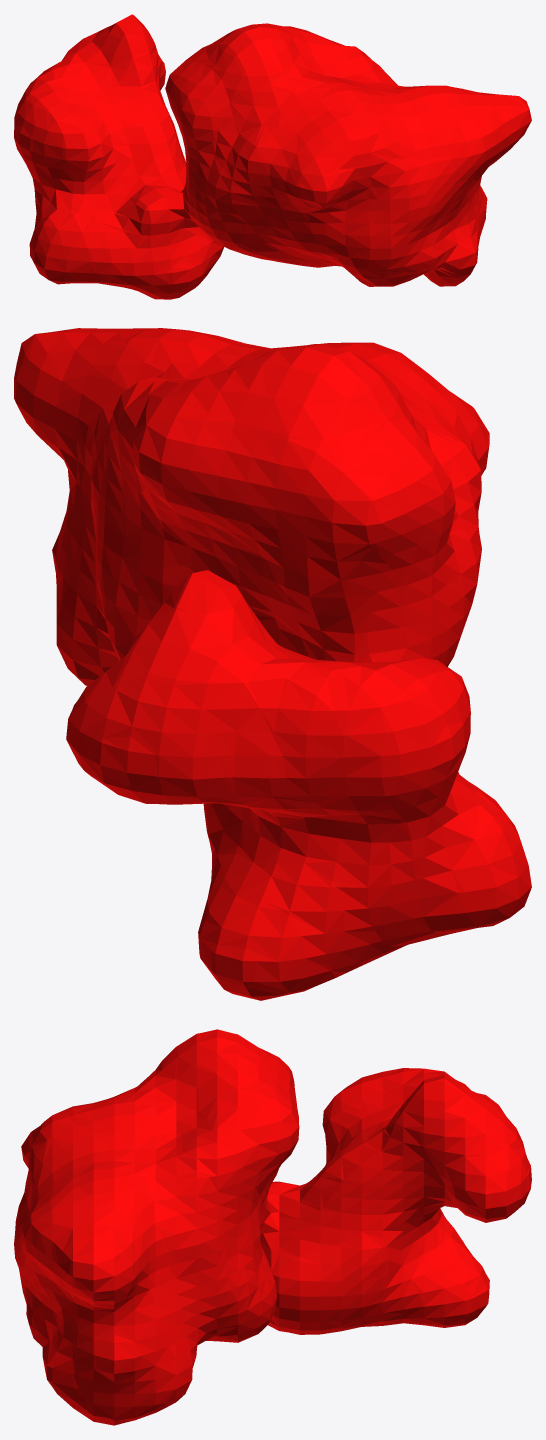
File: trmD_coarse.dae
3 renders of one model, top to bottom at view 1: azimuth 30°, elevation 25°; view 2: azimuth 150°, elevation 25°; view 3: azimuth 270°, elevation 25°, orthographic. The views are drawn at different scales.
Parts seen in each view (by area): view 1: trmD; view 2: trmD; view 3: trmD.
Boxes of the visible parts, x1,y1,x2,y2 form: trmD: (14,14,531,299); trmD: (14,328,531,1000); trmD: (14,1029,531,1425).
Bounding box in the file's own units: 69.04 × 46.96 × 67.28.
